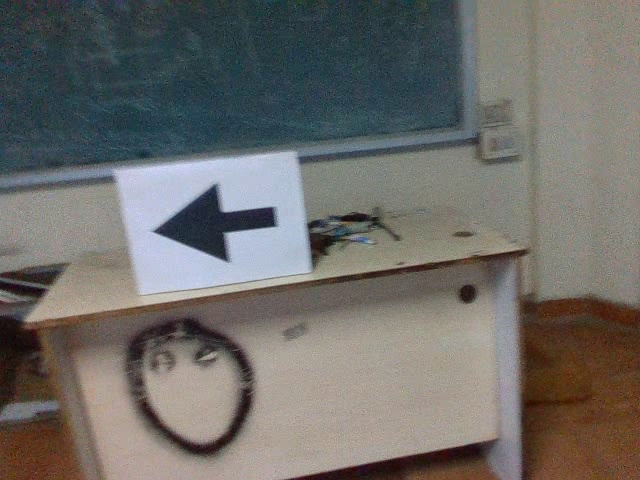Left: (143, 178, 285, 268)
